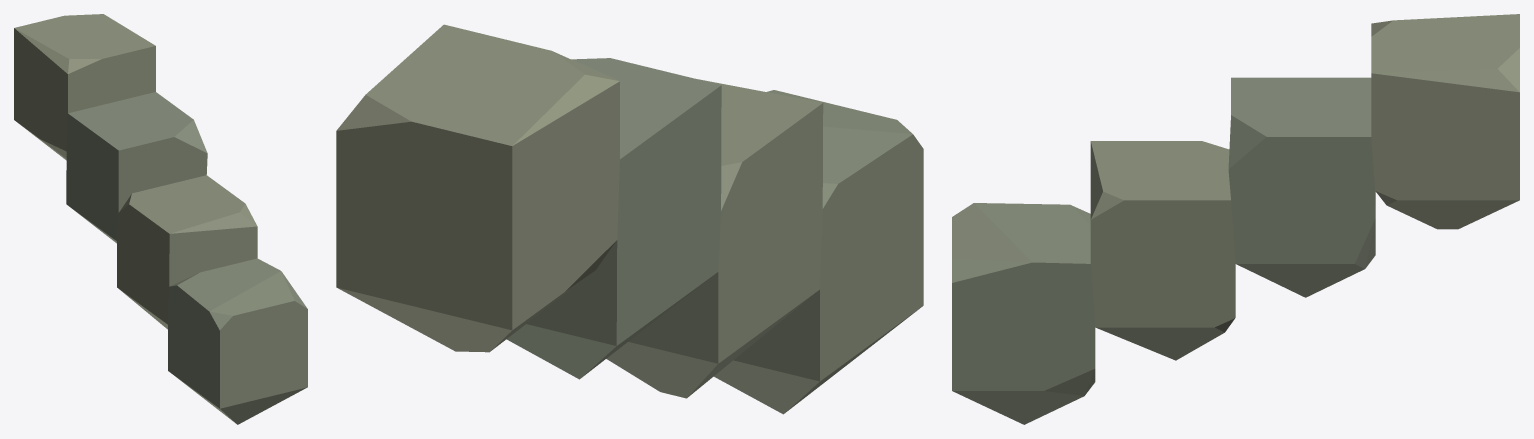
Rendered from stair_long_straight_railing_low.fbx.
3 views of the same model, side by side, from view 1: azimuth 30°, elevation 25°; view 2: azimuth 150°, elevation 25°; view 3: azimuth 270°, elevation 25° (orthographic). The views are drawn at different scales.
Visible parts, largest first — view 1: stair_long_straight_railing_low; view 2: stair_long_straight_railing_low; view 3: stair_long_straight_railing_low.
Boxes of the visible parts, box(x1,y1,x2,y2) form: stair_long_straight_railing_low: box(14, 14, 307, 424); stair_long_straight_railing_low: box(336, 24, 923, 414); stair_long_straight_railing_low: box(952, 14, 1519, 424).
Bounding box in the file's own units: 52.95 × 150 × 202.
